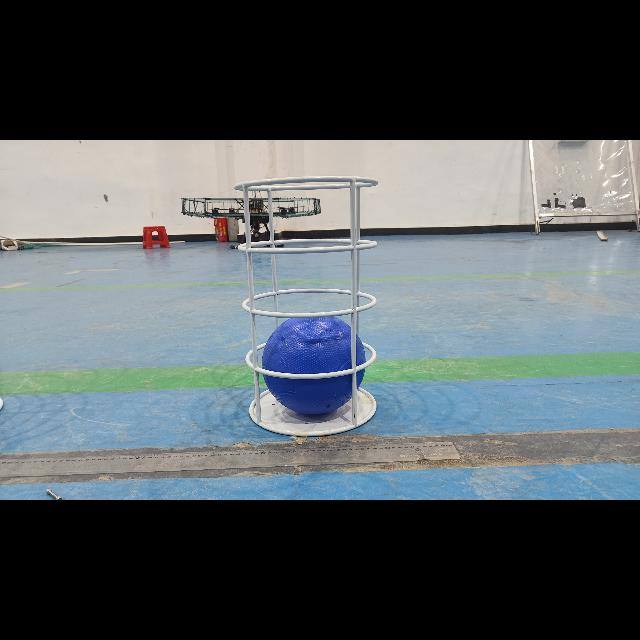B: (262, 312, 364, 414)
S: (228, 170, 384, 440)
